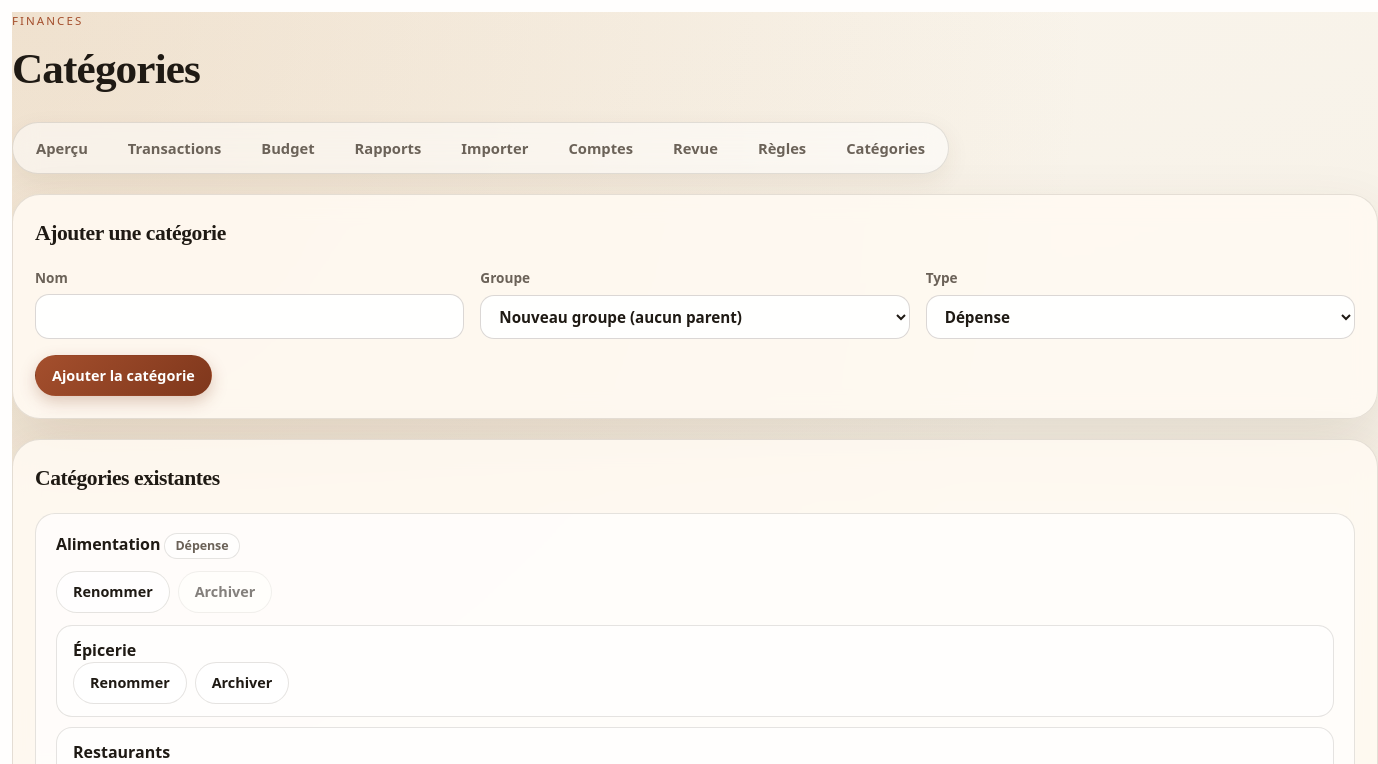
it: FinanceCategoriesPage › rejects a duplicate name in the same group
This screenshot has width=1378, height=764.
Expected: the heading "Alimentation Dépense" is shown, [56,533,240,559]
Type "epicerie" into the field labelled "Nom" at {"x": 250, "y": 316}, box [35,294,464,339]
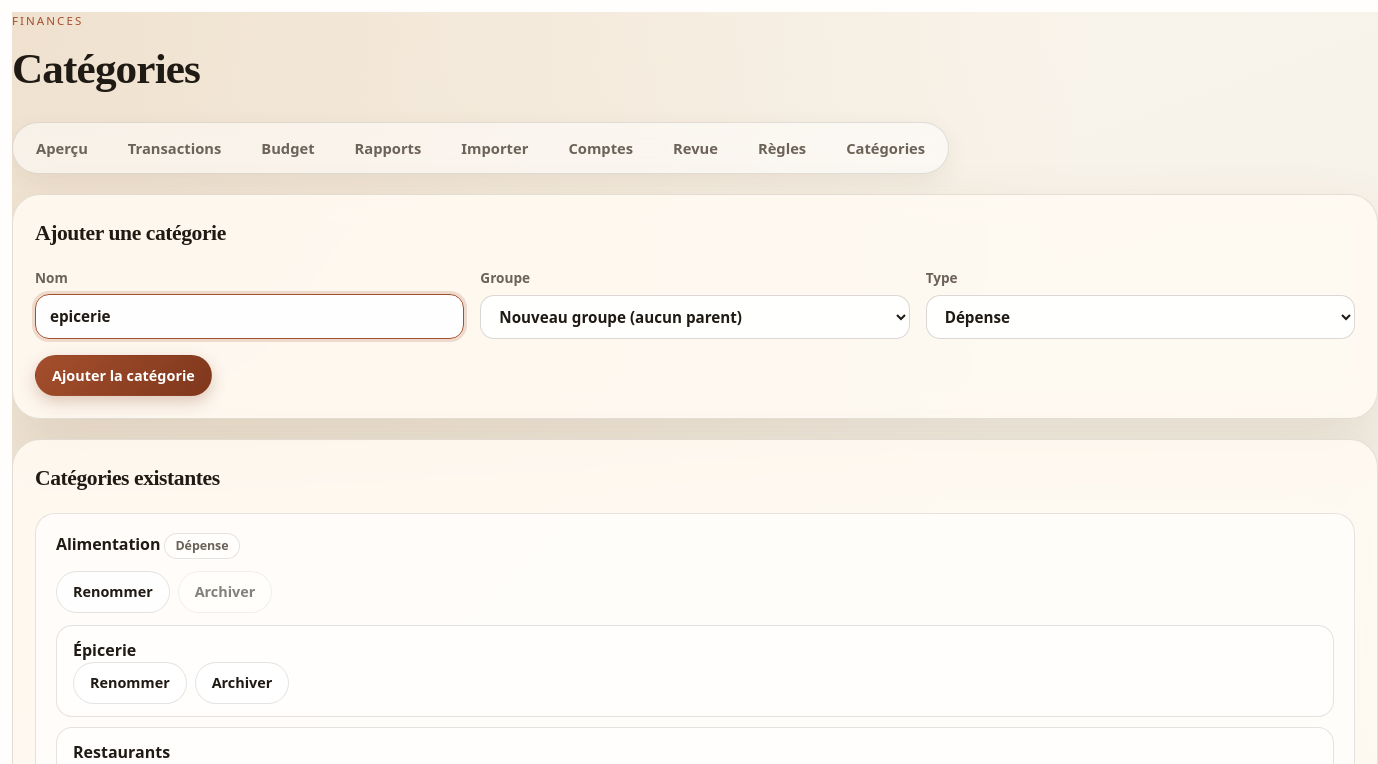
Select "Alimentation" in the dropdown labelled "Groupe" at {"x": 695, "y": 317}, box [480,295,910,339]
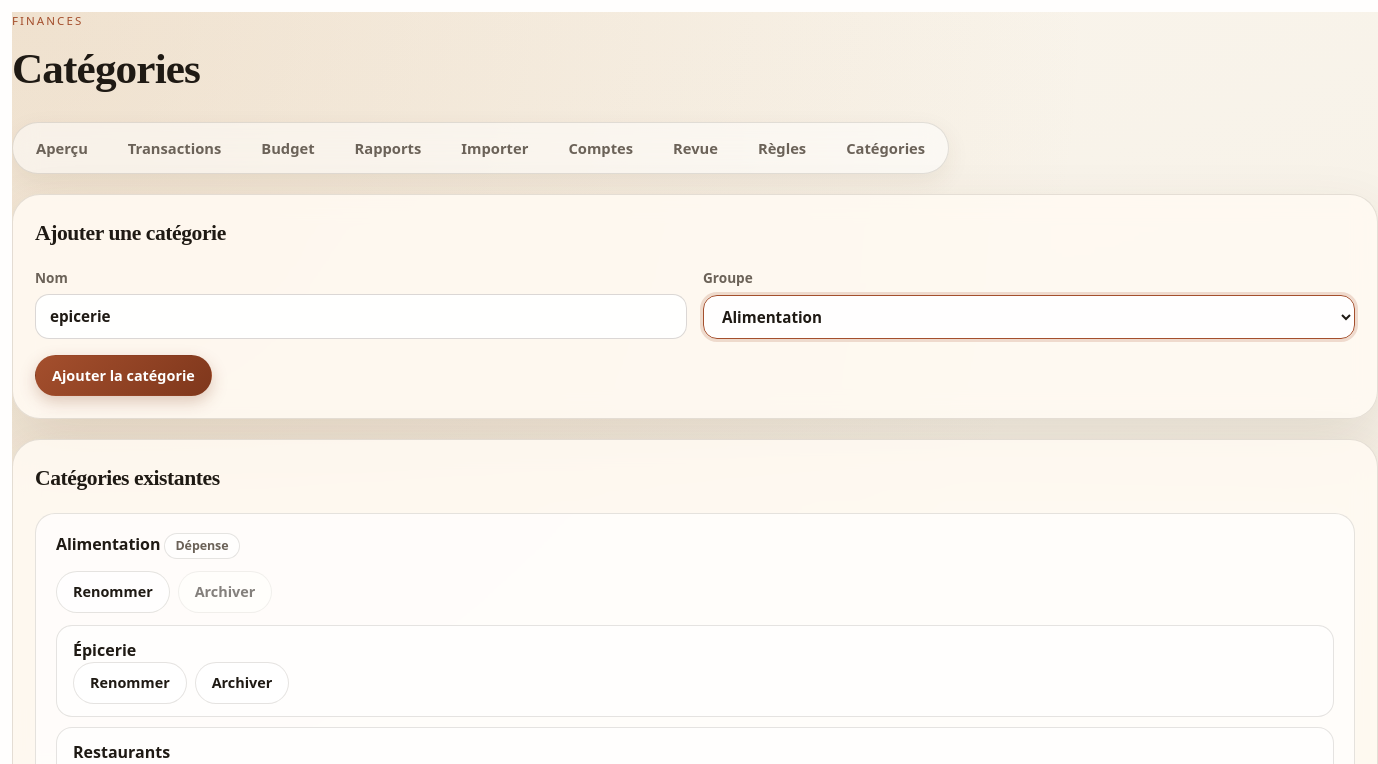
Click the button "Ajouter la catégorie" at {"x": 123, "y": 376}, box [35,355,212,396]
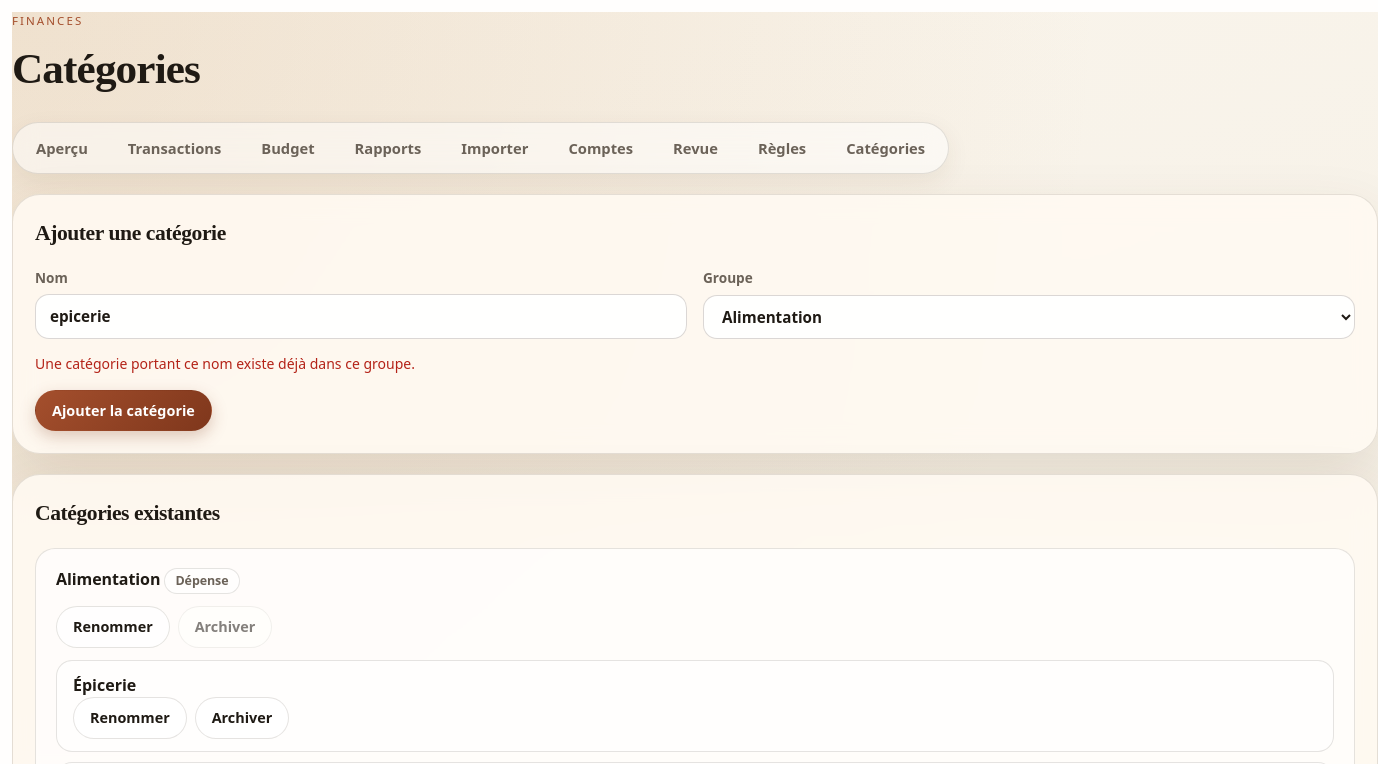
Expected: the text "Une catégorie portant ce nom existe déjà dans ce groupe." is shown, [35,354,415,373]
